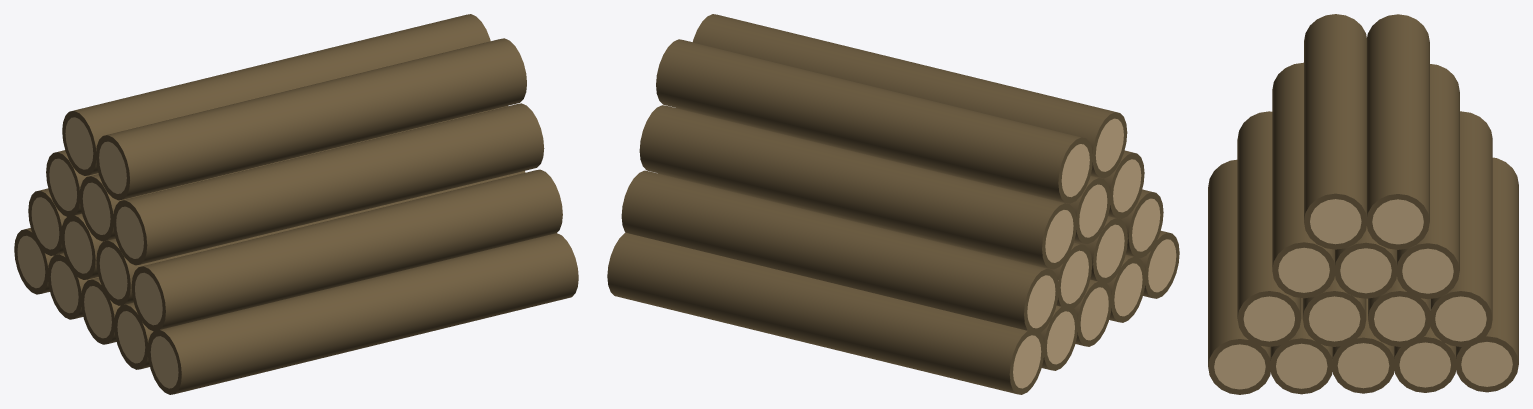
The model's file is Odunlar.fbx.
3 views of the same model, side by side, from view 1: azimuth 30°, elevation 25°; view 2: azimuth 150°, elevation 25°; view 3: azimuth 270°, elevation 25° (orthographic). The views are drawn at different scales.
Visible parts, largest first — view 1: Odunlar; view 2: Odunlar; view 3: Odunlar.
Boxes of the visible parts, <box> form: Odunlar: <box>14,14,578,394</box>; Odunlar: <box>607,14,1179,394</box>; Odunlar: <box>1208,14,1518,394</box>.
Bounding box in the file's own units: 3.56 × 1.86 × 2.6.
